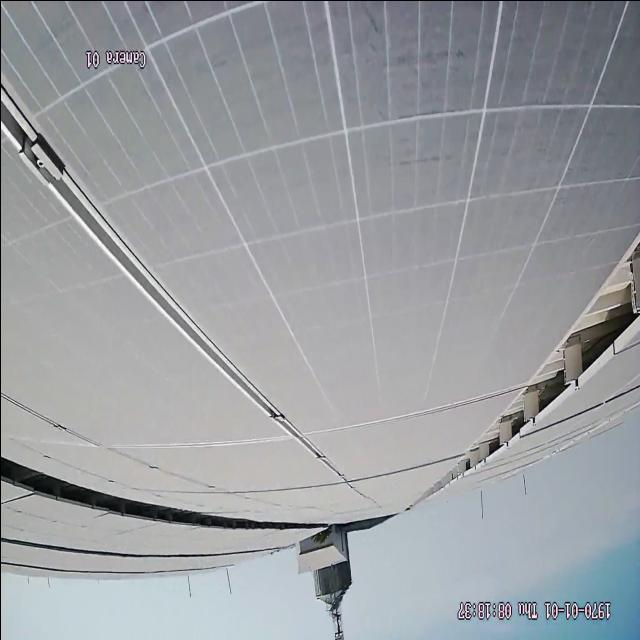interior panel: (0, 85, 349, 479)
outher panel: (408, 231, 640, 511), (4, 446, 263, 532)
